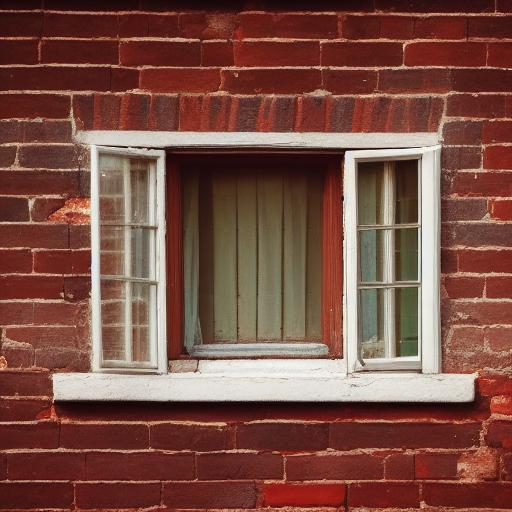Window: (55, 94, 482, 410)
